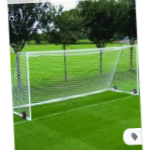goals: (12, 44, 140, 119)
